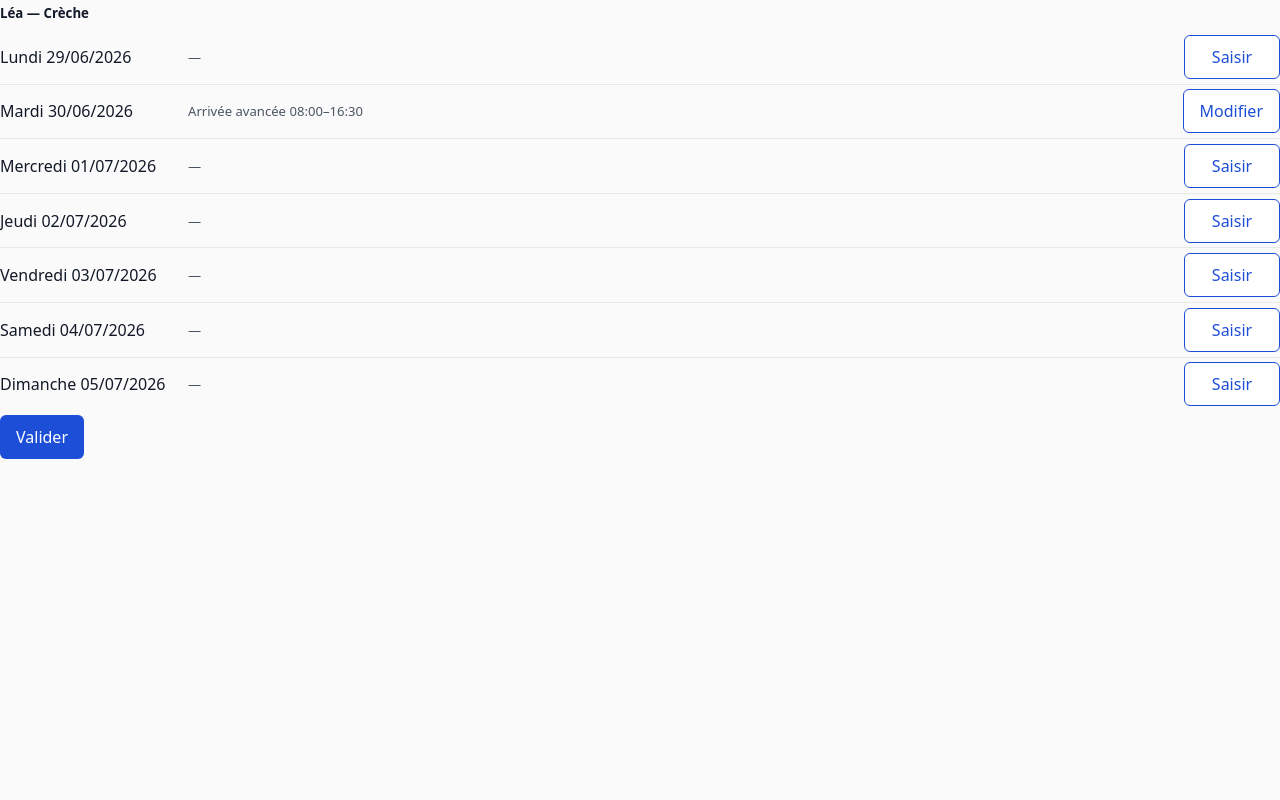
Test: EditeurContratSemaine (crèche PSU) › heures identiques au contrat : « rien à enregistrer » et nettoyage de la saisie
The image size is (1280, 800).
Click the button with aria-label "Modifier le Mardi 30/06/2026". click: click(1231, 111)
box: top-left (1183, 89), bottom-right (1279, 133)
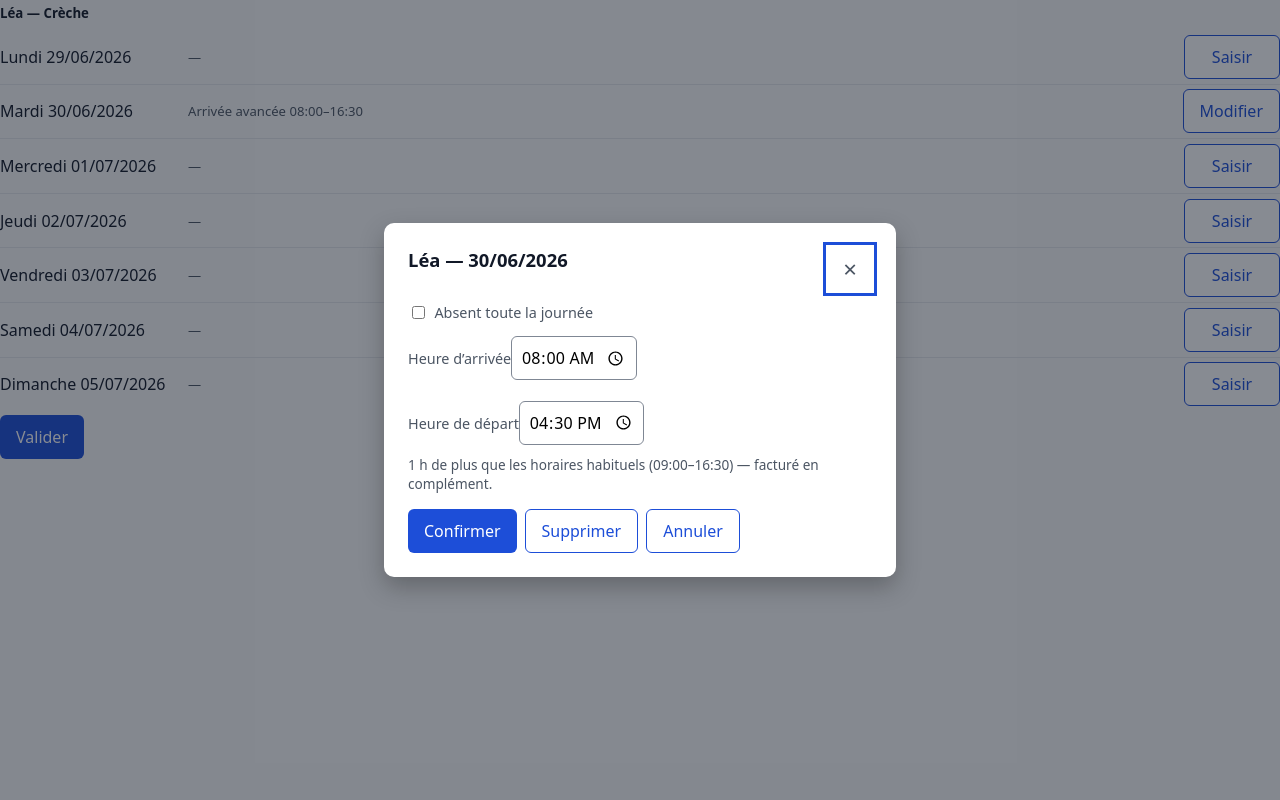
Check: the time field labelled "Heure d’arrivée" holds "08:00"
Replace the text in the time field labelled "Heure d’arrivée" with "09:00". click: (574, 358)
box: top-left (511, 336), bottom-right (637, 380)
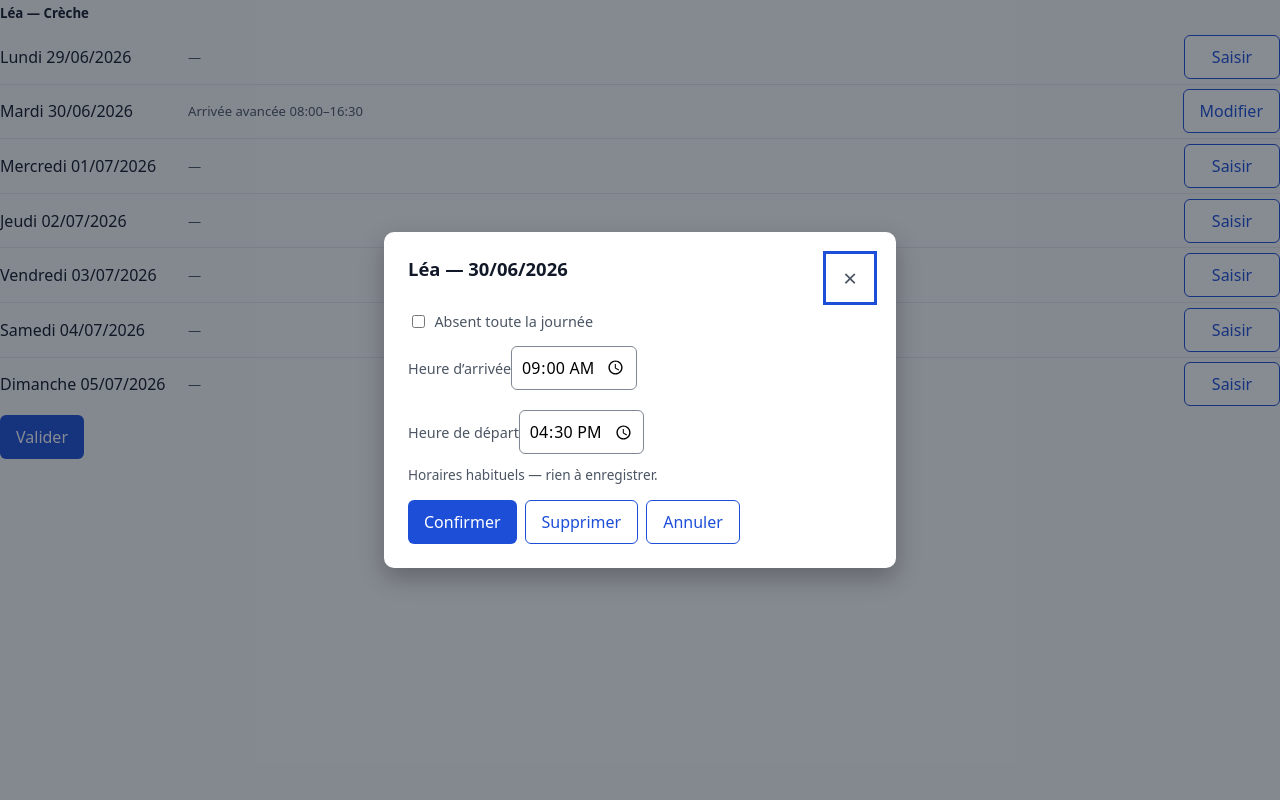
Check: the text "Horaires habituels — rien à enregistrer." is shown, box top-left (408, 465), bottom-right (658, 484)
Click the button "Confirmer". click: click(462, 522)
box: top-left (408, 500), bottom-right (516, 544)
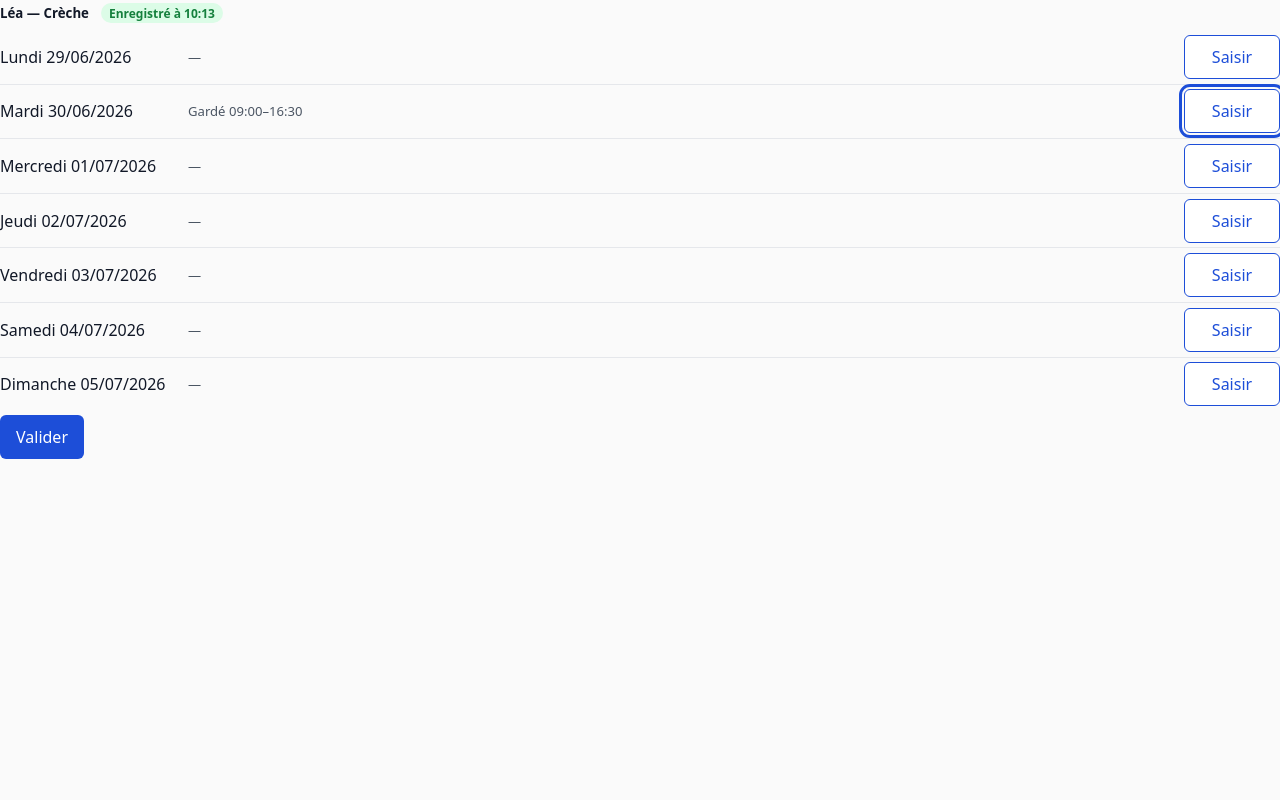
Check: the text "Gardé 09:00–16:30" is shown, box top-left (188, 102), bottom-right (302, 120)
